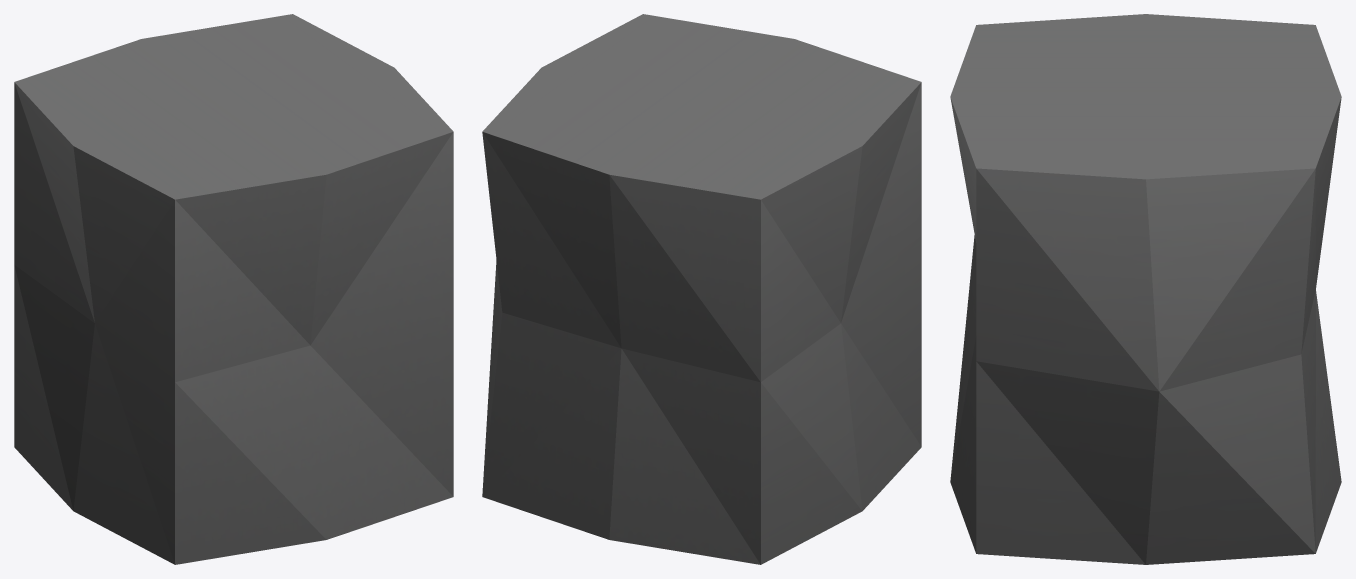
The model's file is Chair.fbx.
The picture shows the model from 3 angles, left to right: view 1: azimuth 30°, elevation 25°; view 2: azimuth 150°, elevation 25°; view 3: azimuth 270°, elevation 25°; orthographic projection. The views are drawn at different scales.
Visible parts, largest first — view 1: Chair; view 2: Chair; view 3: Chair.
Boxes of the visible parts, left/top/right/bottom form: Chair: left=14, top=14, right=453, bottom=564; Chair: left=482, top=14, right=921, bottom=564; Chair: left=950, top=14, right=1341, bottom=564.
Size of the model in its own units: 60.84 by 59.17 by 54.43.
Materials: 1 (1 with a texture image).
